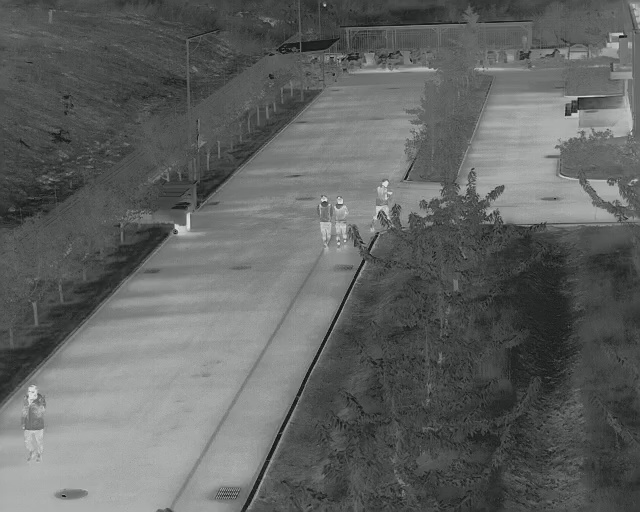person: (16, 386, 46, 461), (314, 193, 333, 251), (332, 197, 350, 249), (371, 178, 392, 218)
